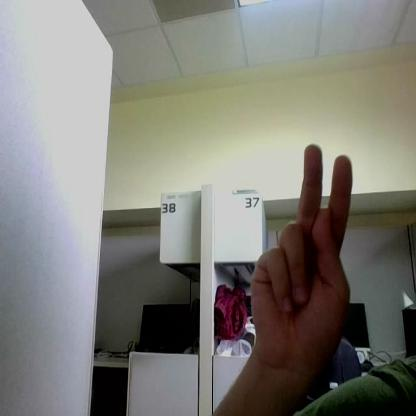K: (251, 144, 352, 368)
